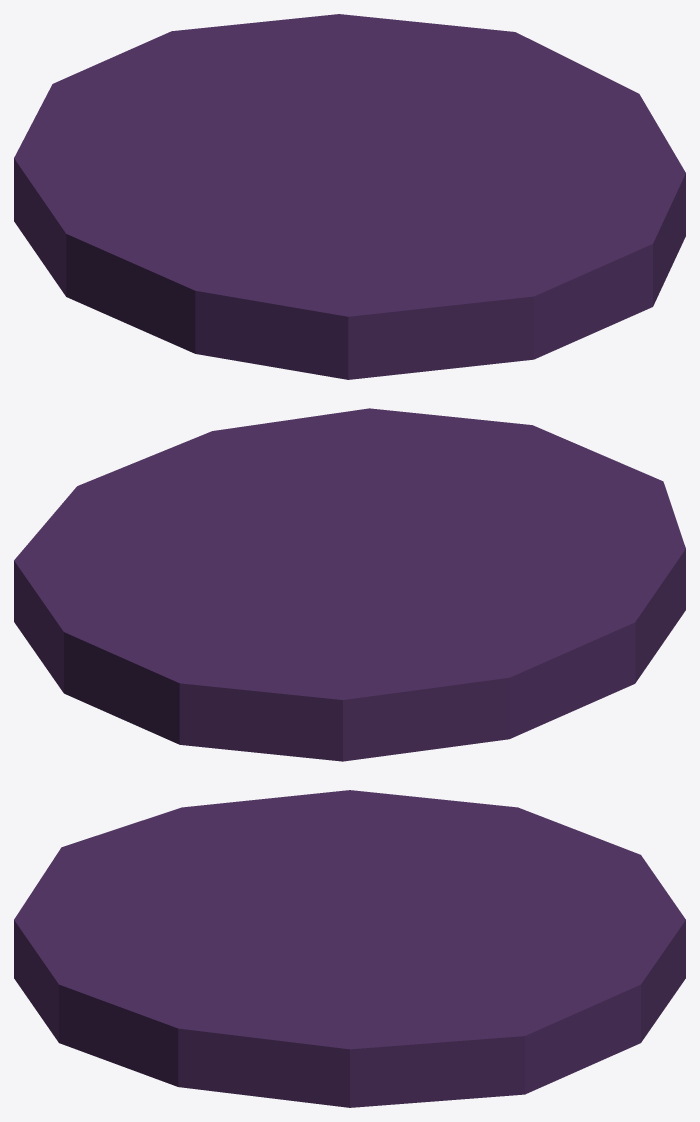
The model's file is cuttedOnion.fbx.
The picture shows the model from 3 angles, top to bottom: view 1: azimuth 30°, elevation 25°; view 2: azimuth 150°, elevation 25°; view 3: azimuth 270°, elevation 25°; orthographic projection. The views are drawn at different scales.
Visible parts, largest first — view 1: Cylinder; view 2: Cylinder; view 3: Cylinder.
Part boxes in pixels (x1,y1,x2,y2): Cylinder: [14, 14, 685, 379]; Cylinder: [14, 408, 685, 761]; Cylinder: [14, 790, 685, 1107].
Size of the model in its own units: 94.96 by 10 by 104.
